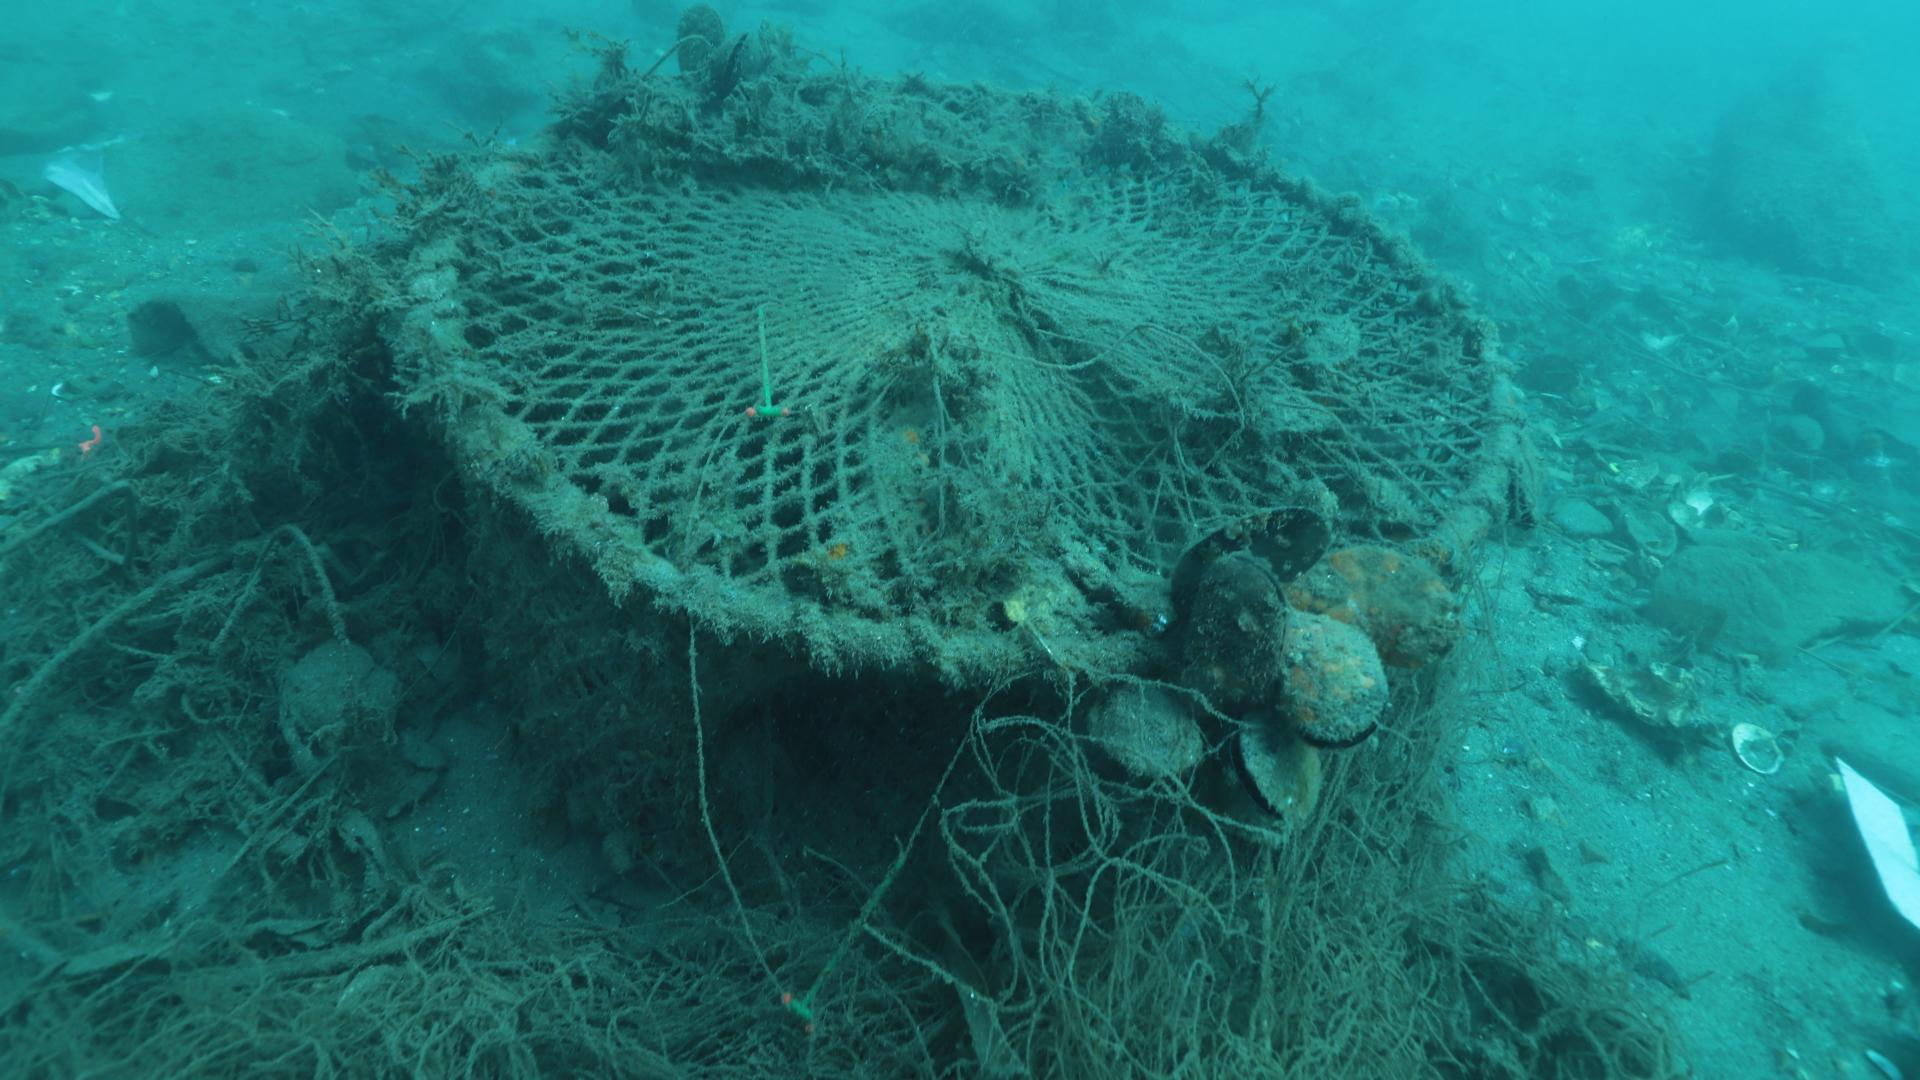circular fish trap: (396, 69, 1528, 916)
